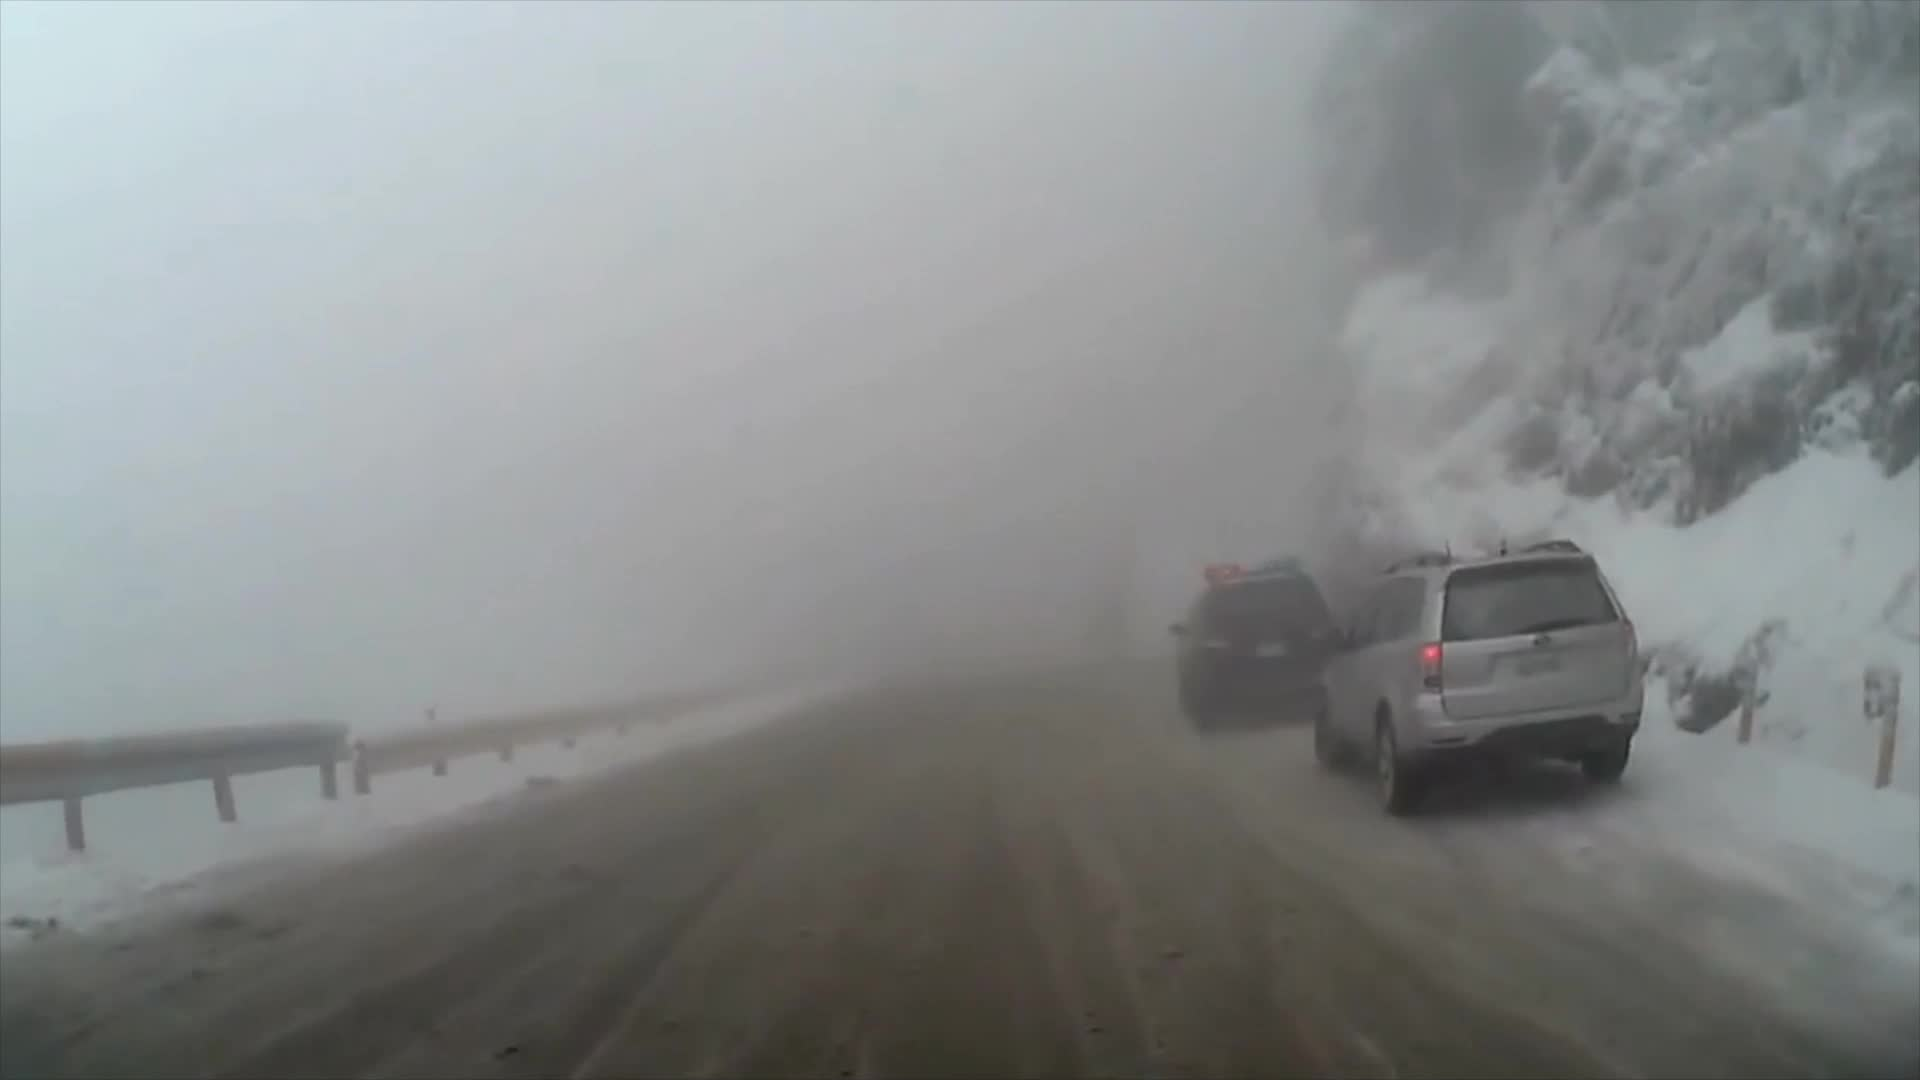vehicle: (1313, 535, 1647, 818), (1167, 550, 1344, 727)
